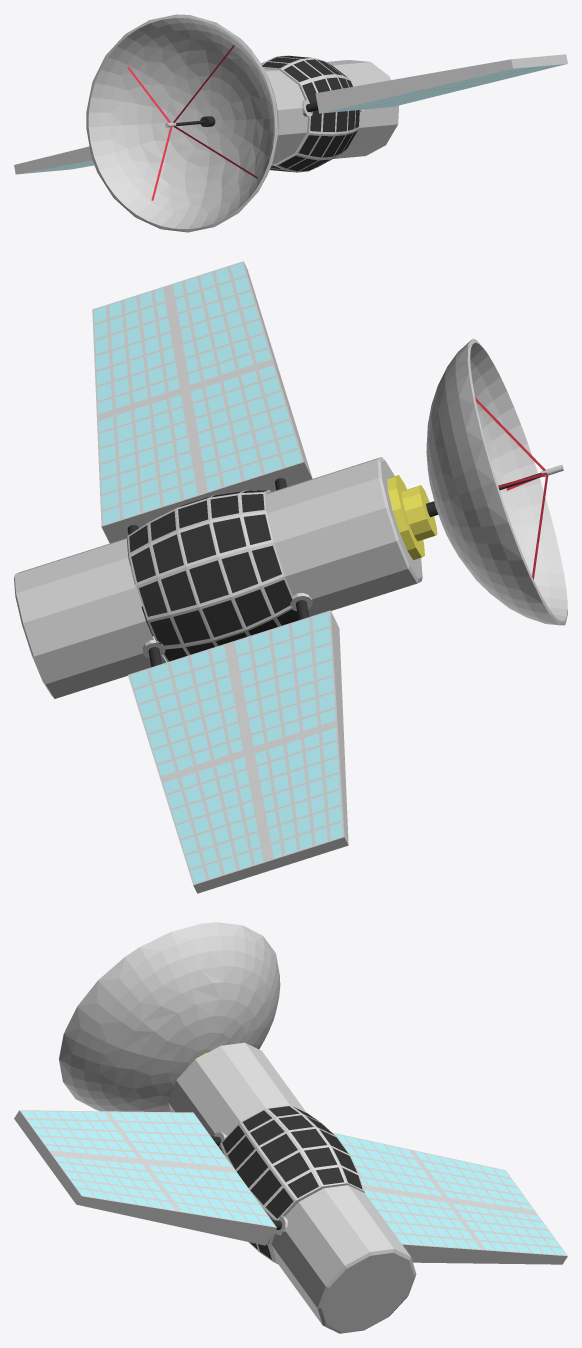
The model's file is satellite.glb.
3 views of the same model, one above another, from view 1: azimuth 30°, elevation 25°; view 2: azimuth 150°, elevation 25°; view 3: azimuth 270°, elevation 25° (orthographic). The views are drawn at different scales.
Visible parts, largest first — view 1: parabola, wing1, Satelite, bottomPart, topPart, wing2; view 2: wing2, wing1, parabola, Satelite, topPart, bottomPart; view 3: parabola, wing1, wing2, bottomPart, Satelite, topPart.
Boxes of the visible parts, x1,y1,x2,y2 form: parabola: (86,14,278,232); wing1: (306,54,567,113); Satelite: (261,55,359,172); bottomPart: (302,60,399,158); topPart: (264,68,307,164); wing2: (14,146,94,174); wing2: (122,507,348,893); wing1: (92,261,312,543); parabola: (426,338,567,625); Satelite: (127,489,298,661); topPart: (266,457,435,616); bottomPart: (14,538,312,698); parabola: (59,922,280,1112); wing1: (14,1110,282,1245); wing2: (252,1133,567,1264); bottomPart: (214,1132,416,1333); Satelite: (219,1105,364,1263); topPart: (168,1042,306,1136).
Size of the model in its own units: 654 by 436 by 684.
